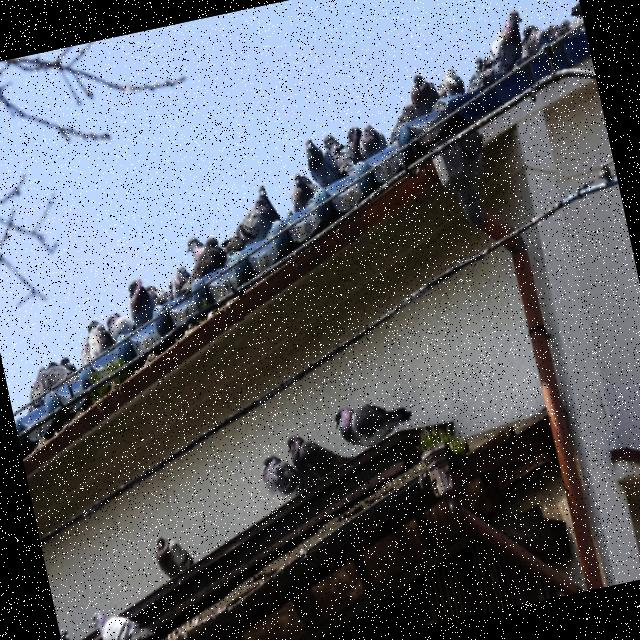bird: (210, 182, 292, 268), (331, 393, 416, 454), (284, 424, 354, 488), (168, 231, 233, 296), (480, 8, 532, 78), (240, 216, 296, 275), (324, 158, 380, 214), (256, 449, 308, 509), (89, 598, 163, 640), (516, 22, 560, 82), (152, 530, 197, 582), (302, 133, 343, 189), (73, 316, 117, 366), (122, 275, 160, 329), (321, 130, 358, 179), (406, 70, 443, 118), (354, 120, 390, 160), (285, 170, 319, 212), (104, 308, 138, 344), (164, 264, 194, 300), (58, 625, 87, 640)
